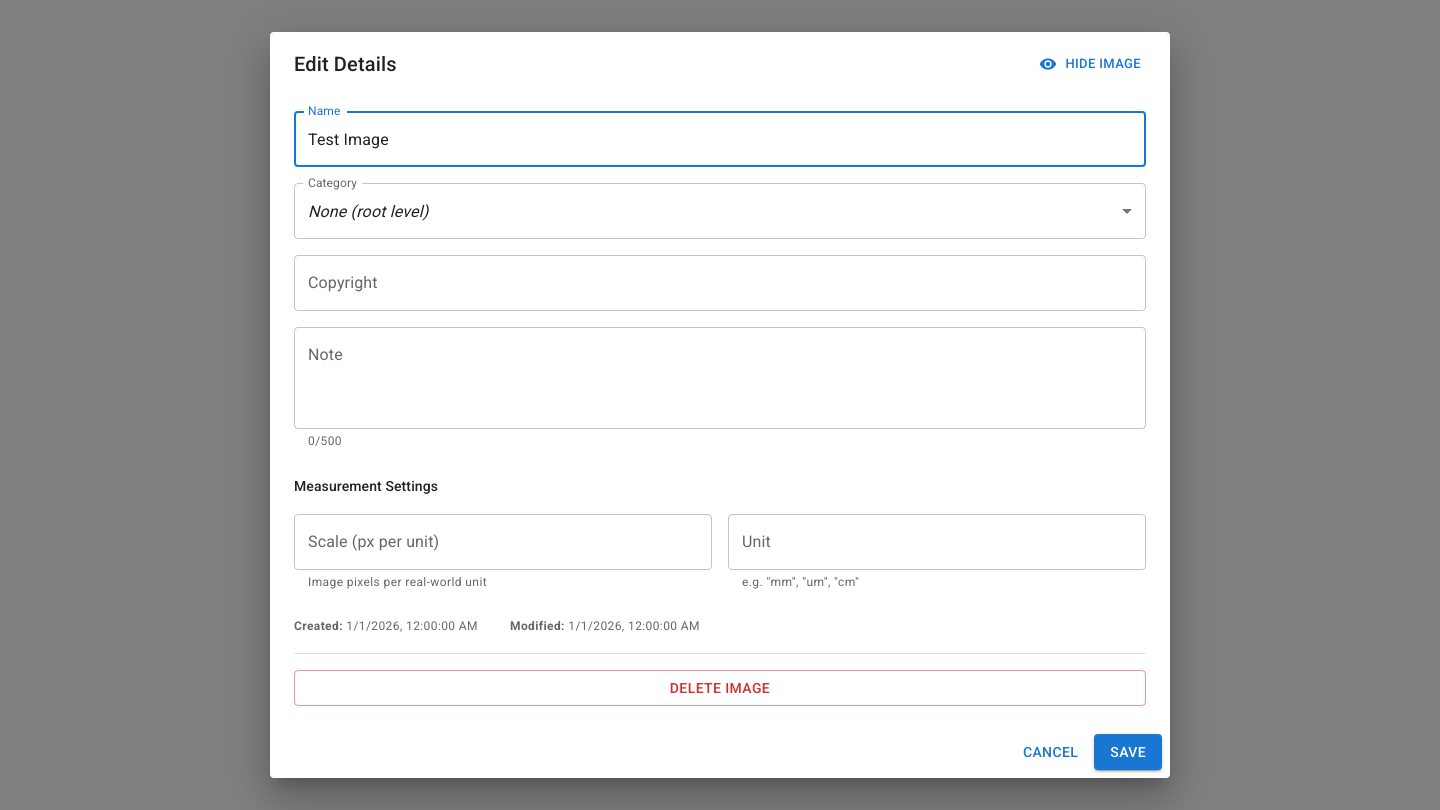
Scenario: EditImageModal – delete error toast › shows an error toast when delete fails
The width and height of the screenshot is (1440, 810).
(page scrolled)
Click the button "Delete Image".
click(720, 688)  # box [294, 670, 1146, 706]
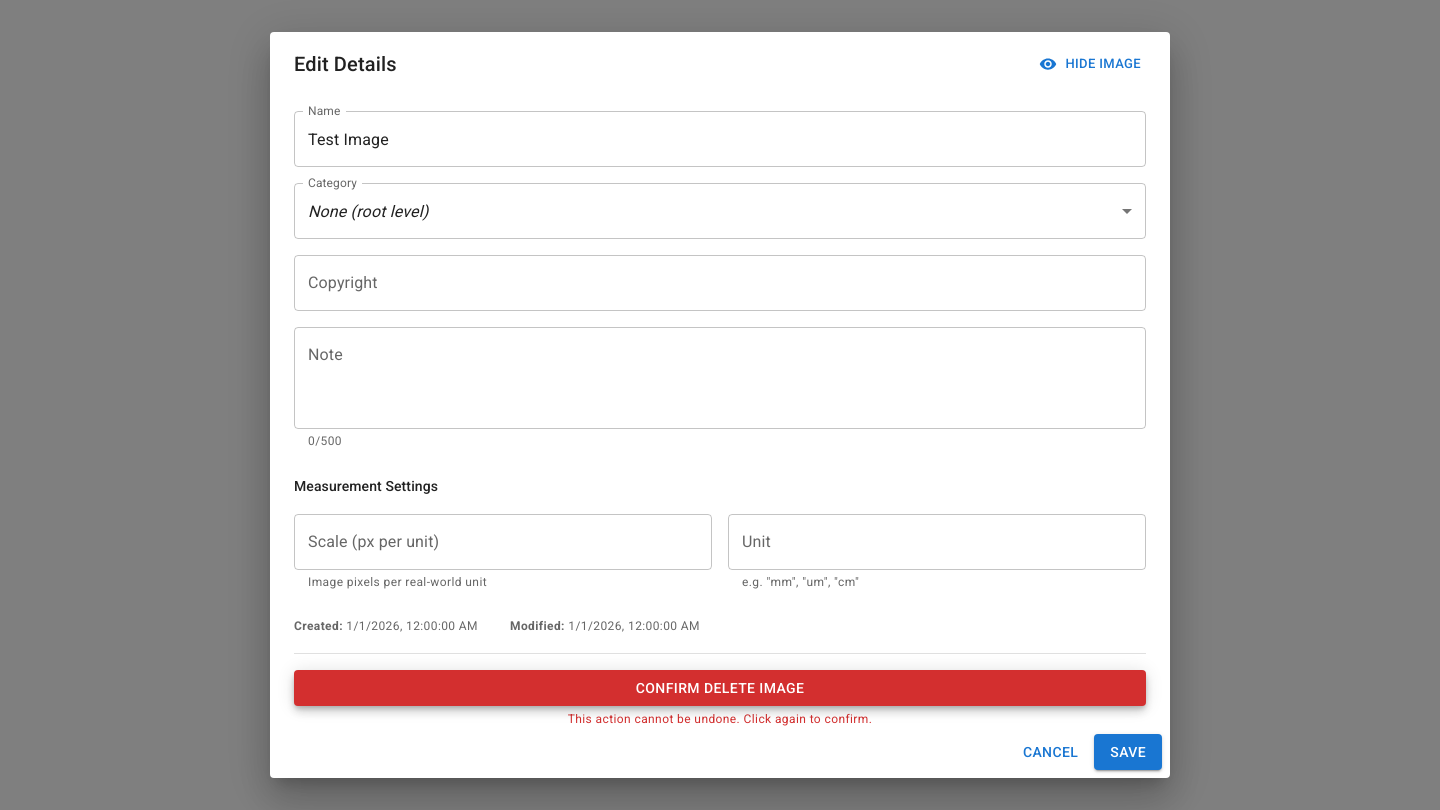
Click the button "Confirm Delete Image".
click(720, 688)  # box [294, 670, 1146, 706]
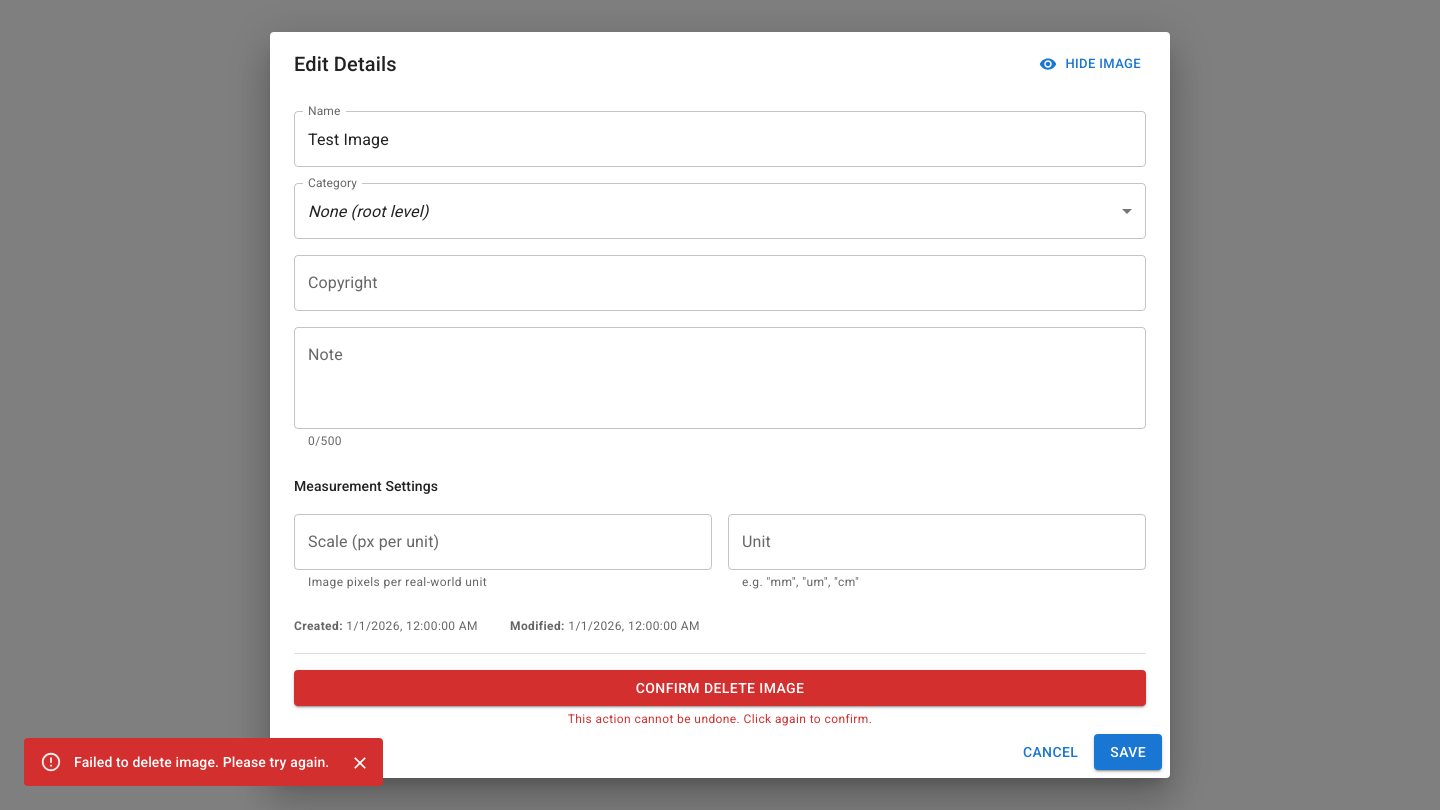
Check: the text "Failed to delete image. Please try again." is shown, box [74, 754, 329, 770]
